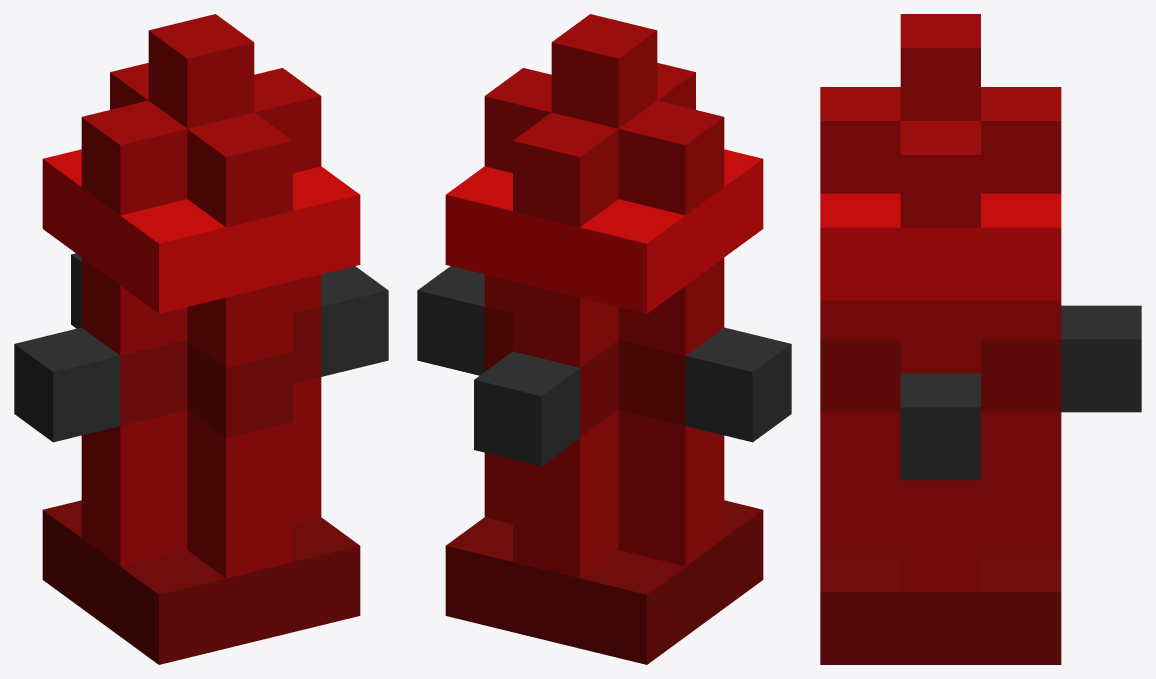
File: hydrant.obj
The picture shows the model from 3 angles, left to right: view 1: azimuth 30°, elevation 25°; view 2: azimuth 150°, elevation 25°; view 3: azimuth 270°, elevation 25°; orthographic projection. The views are drawn at different scales.
Bounding box in the file's own units: 0.5 × 0.8 × 0.4.
1 material, 1 textured.
